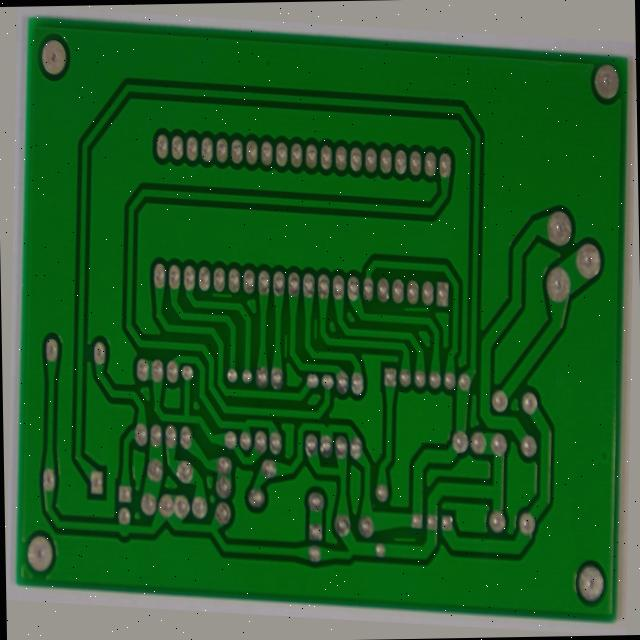spurious_copper: (400, 292, 435, 310), (400, 539, 430, 558), (306, 312, 321, 348), (279, 334, 291, 368), (204, 294, 231, 309)
